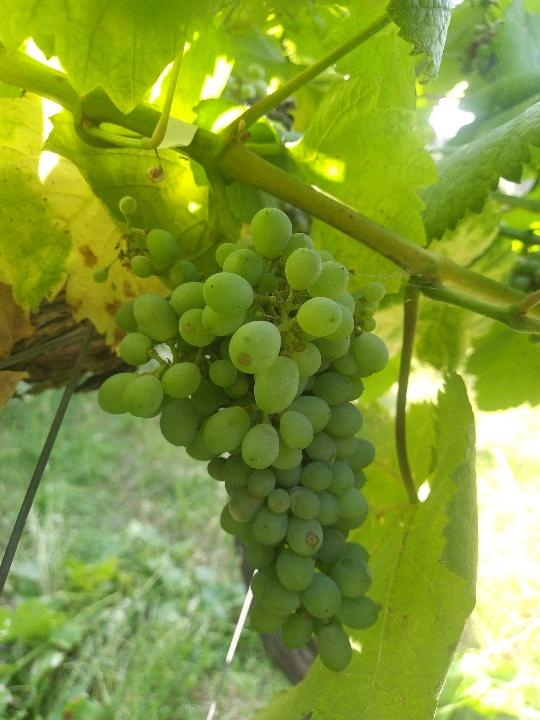grape: (89, 191, 394, 679)
